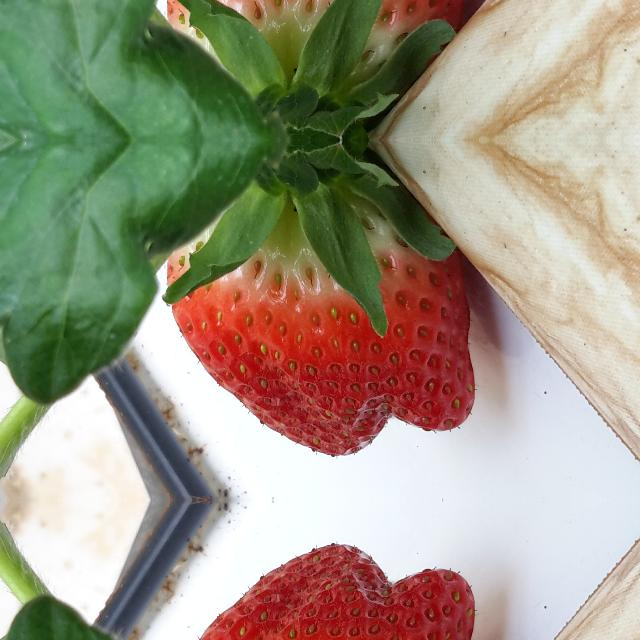Health_100: (166, 191, 478, 459), (165, 541, 478, 640), (165, 0, 478, 89)
